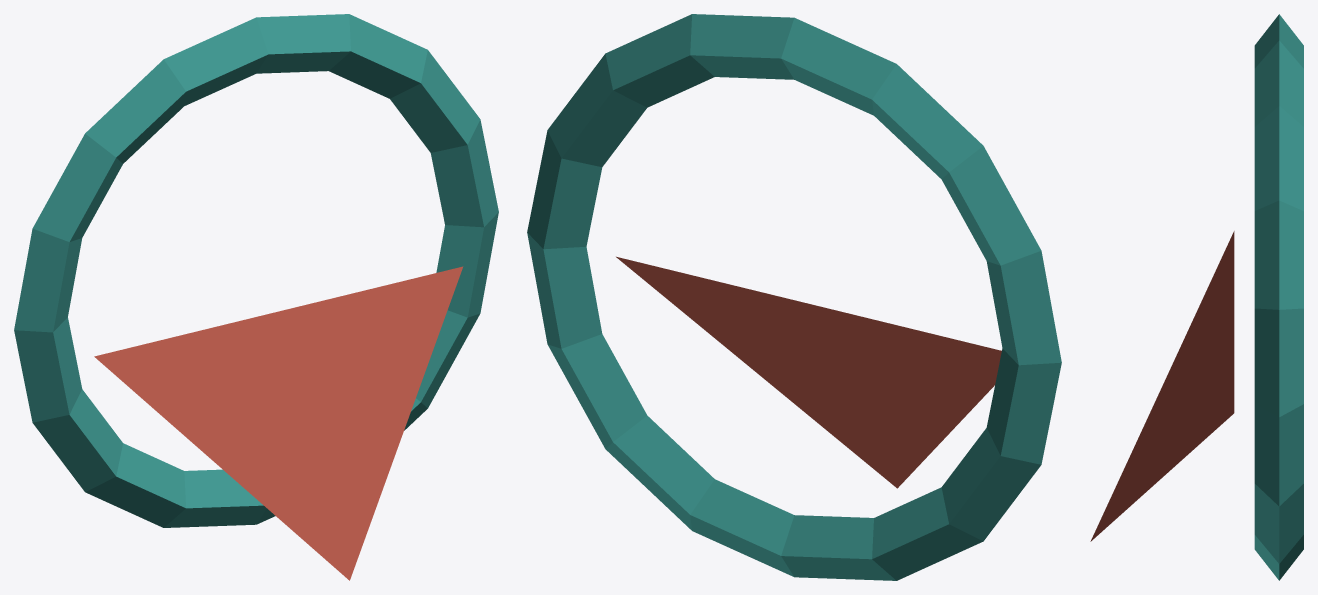
The model's file is pet_bandana.glb.
3 views of the same model, side by side, from view 1: azimuth 30°, elevation 25°; view 2: azimuth 150°, elevation 25°; view 3: azimuth 270°, elevation 25° (orthographic). The views are drawn at different scales.
Parts seen in each view (by area): view 1: collar, bandana; view 2: collar, bandana; view 3: collar, bandana.
Part boxes in pixels (box(x1,y1,x2,y2)): collar: box(14, 14, 498, 527); bandana: box(94, 266, 463, 580); collar: box(527, 14, 1061, 580); bandana: box(616, 256, 1001, 488); collar: box(1254, 14, 1303, 580); bandana: box(1090, 231, 1234, 541).
Bounding box in the file's own units: 0.63 × 0.63 × 0.2373.
